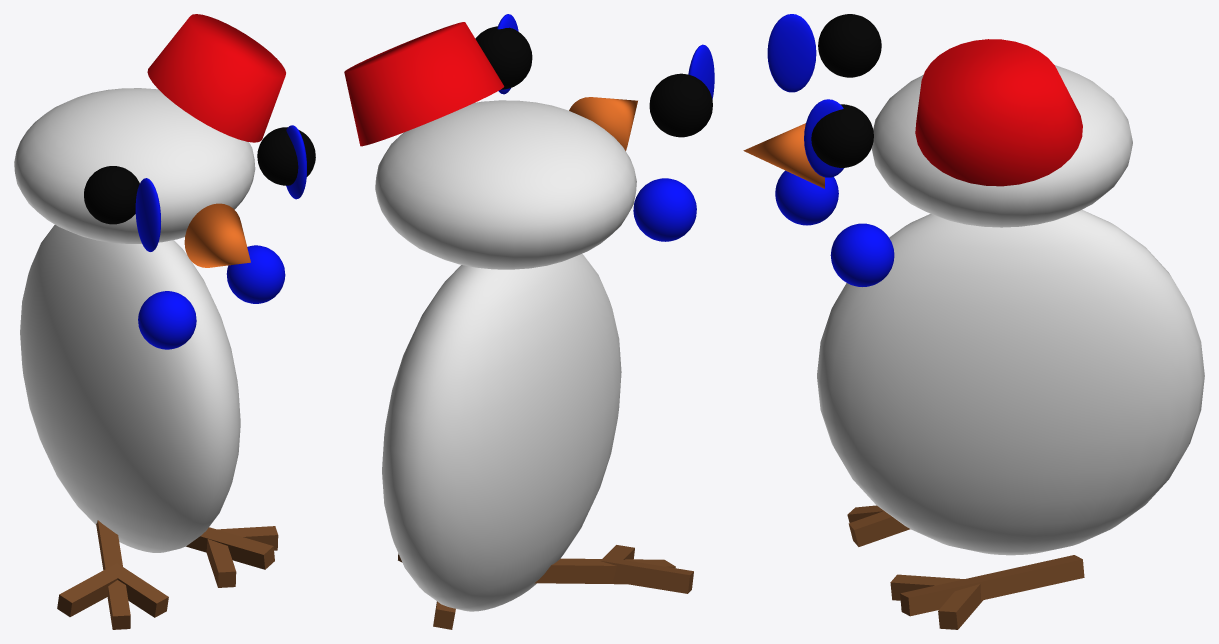
3 renders of one model, left to right at view 1: azimuth 30°, elevation 25°; view 2: azimuth 150°, elevation 25°; view 3: azimuth 270°, elevation 25°, orthographic. The views are drawn at different scales.
Visible parts, largest first — view 1: 球, 球.001, 円柱, 立方体, 立方体.004, 円錐, 球.005, 球.002, 球.004, 球.003, 球.007, 球.006; view 2: 球, 球.001, 円柱, 立方体, 球.005, 球.002, 球.003, 円錐, 球.007; view 3: 球, 円柱, 球.001, 立方体.004, 球.002, 球.004, 球.007, 球.003, 球.005, 円錐, 立方体, 球.006.
Boxes of the visible parts, <box> form: 球: <box>20,225,240,552</box>; 球.001: <box>14,88,255,243</box>; 円柱: <box>147,14,285,142</box>; 立方体: <box>57,520,168,629</box>; 立方体.004: <box>186,526,278,587</box>; 円錐: <box>184,203,250,267</box>; 球.005: <box>138,291,196,349</box>; 球.002: <box>84,166,139,224</box>; 球.004: <box>226,245,285,303</box>; 球.003: <box>257,127,315,185</box>; 球.007: <box>135,178,160,251</box>; 球.006: <box>286,125,306,199</box>; 球: <box>382,254,621,611</box>; 球.001: <box>375,100,636,269</box>; 円柱: <box>344,22,504,146</box>; 立方体: <box>534,545,693,593</box>; 球.005: <box>633,178,696,241</box>; 球.002: <box>649,73,712,137</box>; 球.003: <box>475,26,532,89</box>; 円錐: <box>569,97,637,150</box>; 球.007: <box>688,44,714,99</box>; 球: <box>817,210,1204,555</box>; 円柱: <box>915,39,1082,186</box>; 球.001: <box>871,65,1132,227</box>; 立方体.004: <box>890,555,1084,629</box>; 球.002: <box>818,14,881,77</box>; 球.004: <box>830,223,894,286</box>; 球.007: <box>767,14,816,92</box>; 球.003: <box>811,104,873,167</box>; 球.005: <box>775,170,838,225</box>; 円錐: <box>743,123,824,188</box>; 立方体: <box>847,505,910,546</box>; 球.006: <box>804,99,843,177</box>.
Bounding box in the file's own units: 0.7344 × 1.39 × 1.03.
